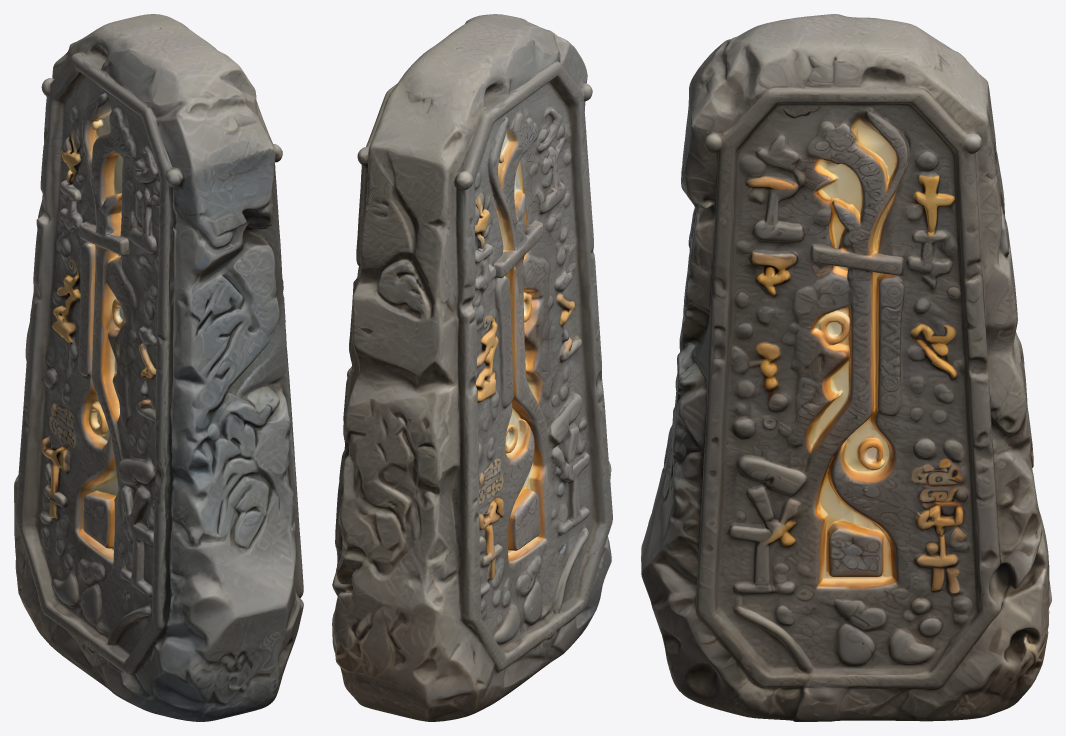
The model's file is prop-rune-stone.glb.
3 renders of one model, left to right at view 1: azimuth 30°, elevation 25°; view 2: azimuth 150°, elevation 25°; view 3: azimuth 270°, elevation 25°, orthographic. The views are drawn at different scales.
Visible parts, largest first — view 1: tripo_node_56e8cf4f-ad3c-400a-89f0-baac0ca84c62; view 2: tripo_node_56e8cf4f-ad3c-400a-89f0-baac0ca84c62; view 3: tripo_node_56e8cf4f-ad3c-400a-89f0-baac0ca84c62.
Part boxes in pixels (left/top/right/bottom): tripo_node_56e8cf4f-ad3c-400a-89f0-baac0ca84c62: left=14, top=14, right=303, bottom=721; tripo_node_56e8cf4f-ad3c-400a-89f0-baac0ca84c62: left=332, top=14, right=612, bottom=721; tripo_node_56e8cf4f-ad3c-400a-89f0-baac0ca84c62: left=641, top=14, right=1051, bottom=721.
Bounding box in the file's own units: 0.6322 × 2.5 × 1.41.
Materials: 1 (1 with a texture image).
